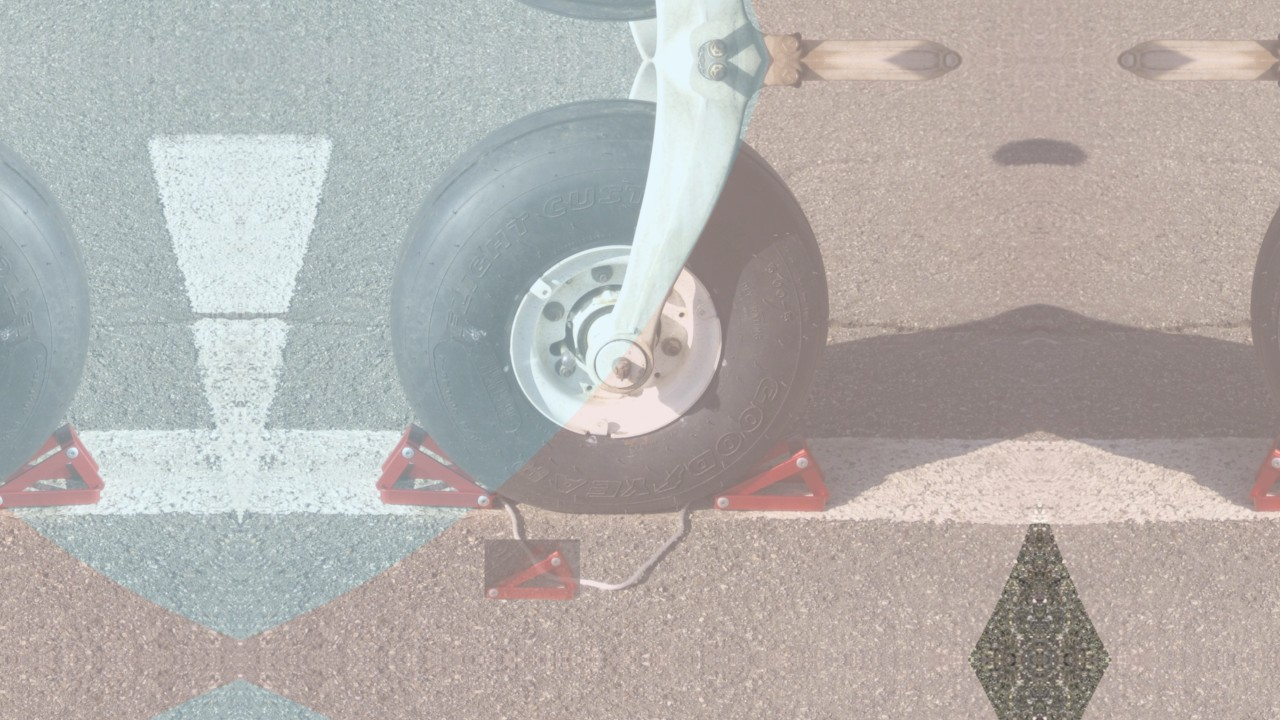chock: (371, 423, 496, 508), (711, 434, 833, 511), (0, 423, 109, 508), (484, 539, 580, 600), (1247, 434, 1280, 511)
wheel: (391, 99, 815, 504), (0, 99, 89, 504)
